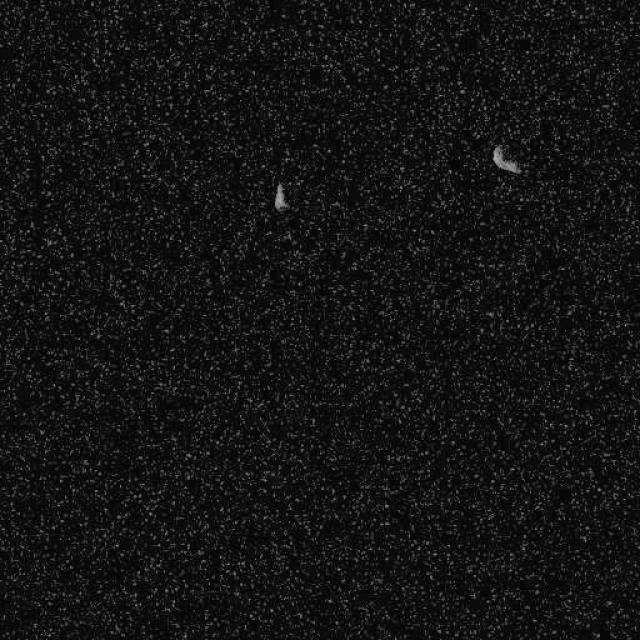D2: (492, 143, 522, 175), (272, 180, 288, 211)
